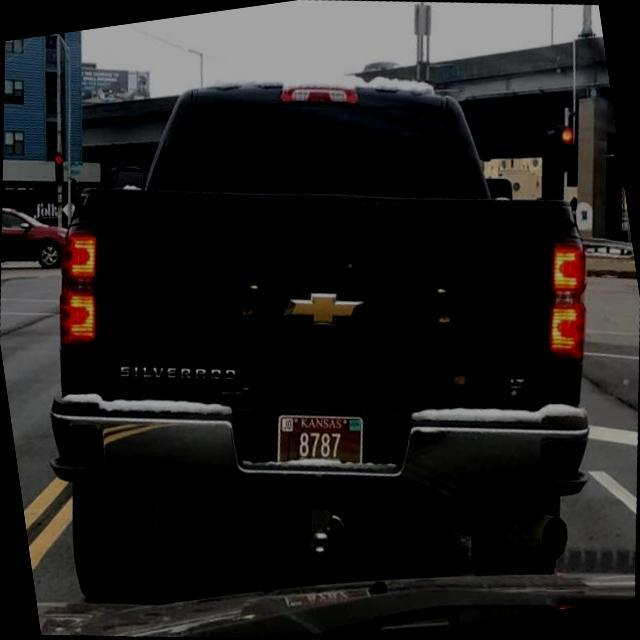LicensePlate: (276, 414, 362, 465)
